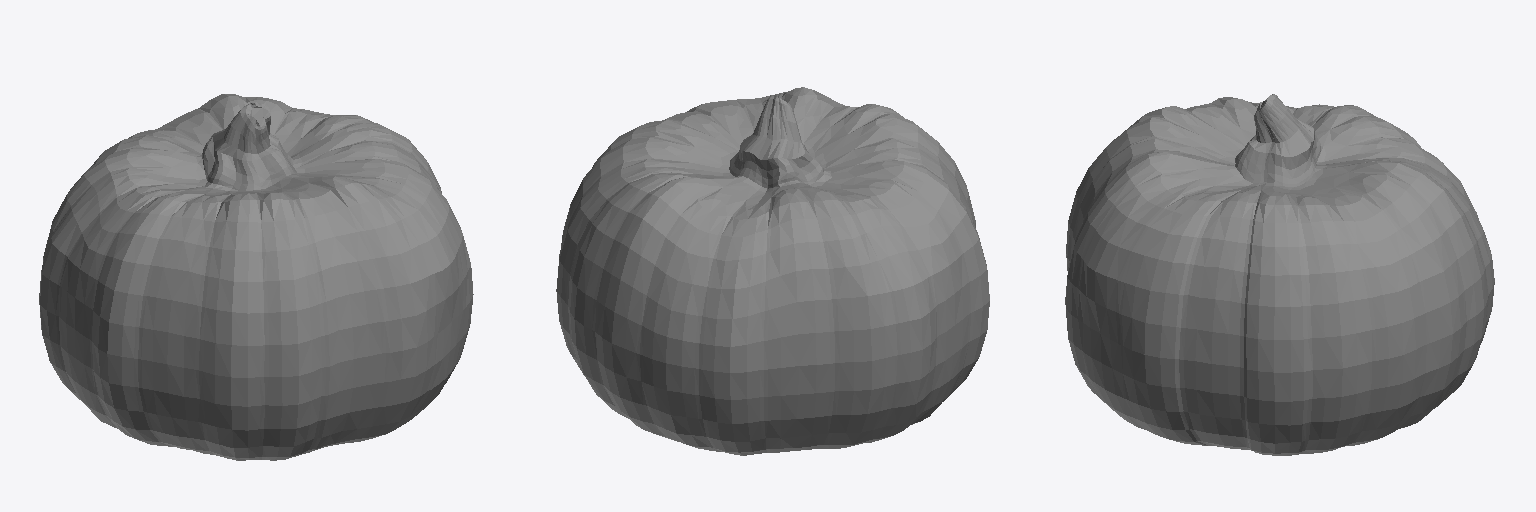
File: Pumpkin.obj
3 renders of one model, left to right at view 1: azimuth 30°, elevation 25°; view 2: azimuth 150°, elevation 25°; view 3: azimuth 270°, elevation 25°, orthographic.
Visible parts, largest first — view 1: Sphere03; view 2: Sphere03; view 3: Sphere03.
Boxes of the visible parts, <box> form: Sphere03: <box>39,94,473,460</box>; Sphere03: <box>556,87,989,455</box>; Sphere03: <box>1065,94,1494,455</box>.
Bounding box in the file's own units: 16.93 × 13.75 × 16.91.